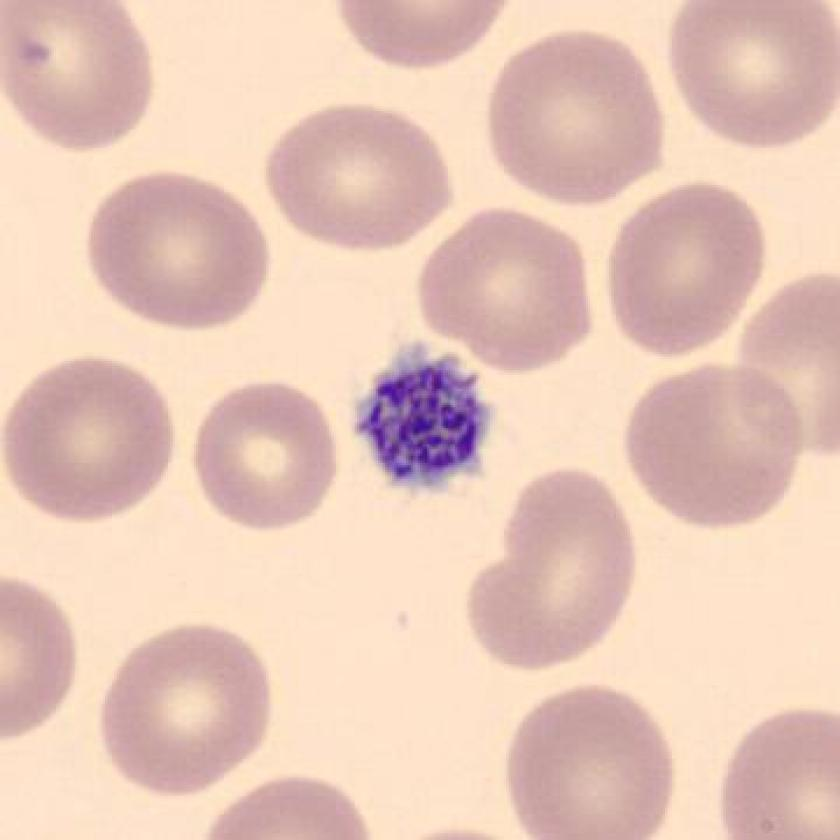platelets: (332, 323, 503, 503)
